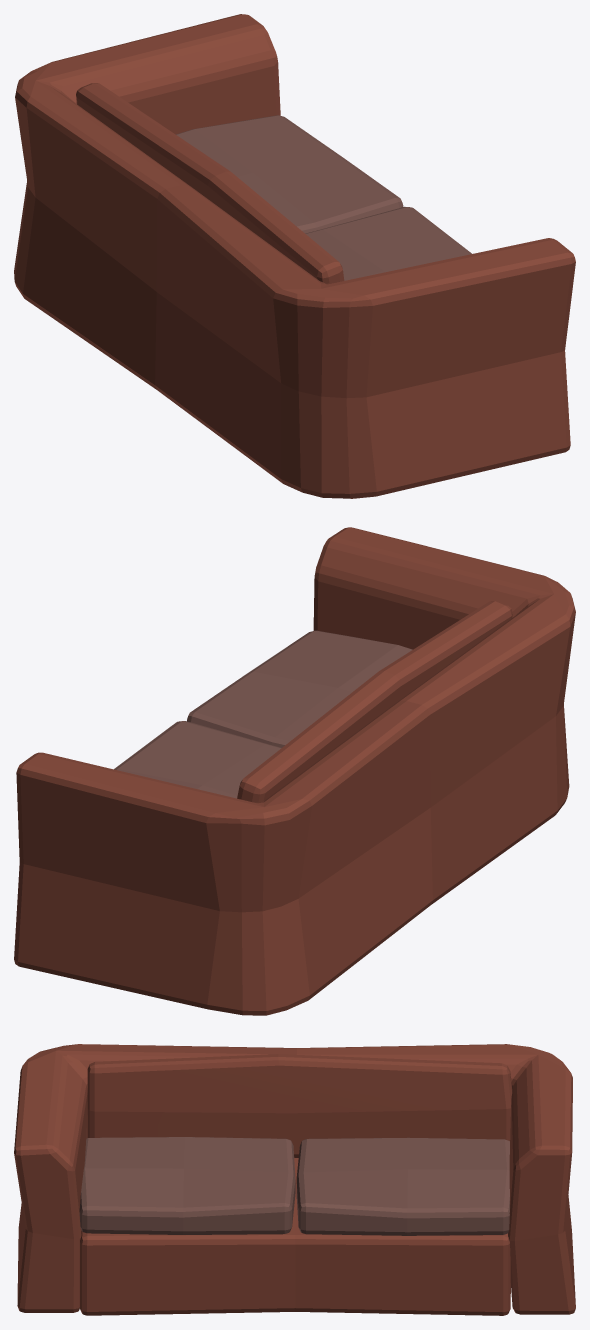
The model's file is Sofa.fbx.
3 renders of one model, top to bottom at view 1: azimuth 30°, elevation 25°; view 2: azimuth 150°, elevation 25°; view 3: azimuth 270°, elevation 25°, orthographic. The views are drawn at different scales.
Visible parts, largest first — view 1: Cube.050; view 2: Cube.050; view 3: Cube.050.
Part boxes in pixels (bbox=[...]): Cube.050: bbox=[14, 14, 575, 498]; Cube.050: bbox=[14, 527, 575, 1015]; Cube.050: bbox=[14, 1044, 575, 1315].
Bounding box in the file's own units: 115 × 87.92 × 247.
